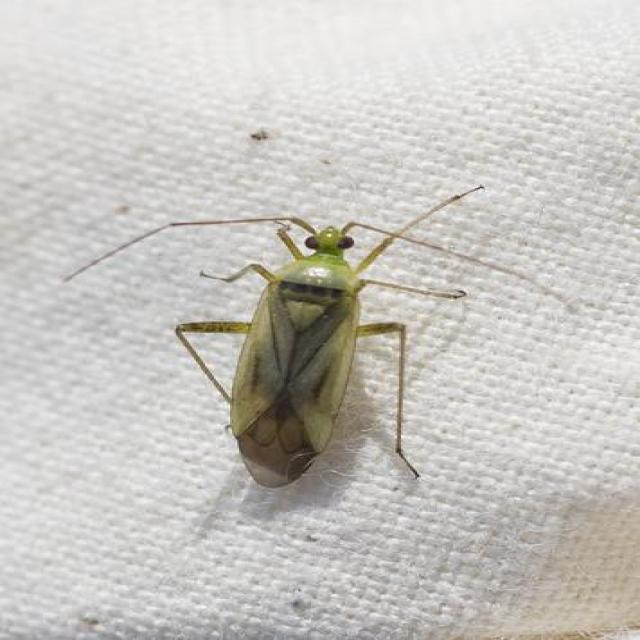Miridae-Adult-: (60, 182, 499, 493)
